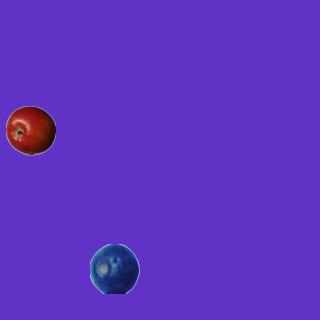Apple Braeburn: (5, 105, 55, 155)
Huckleberry: (89, 243, 139, 293)
